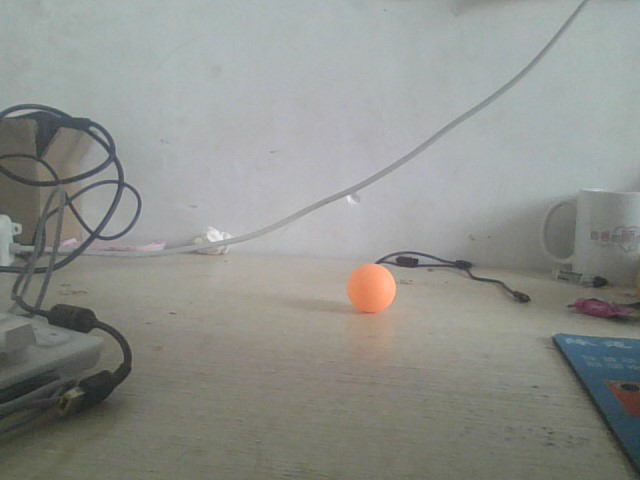ball: (348, 264, 396, 315)
